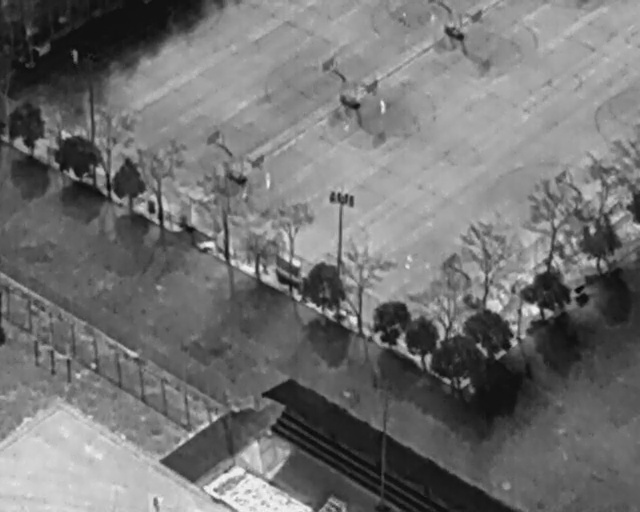Person: (405, 253, 414, 272), (70, 47, 79, 65), (379, 97, 387, 116), (264, 171, 271, 189)
